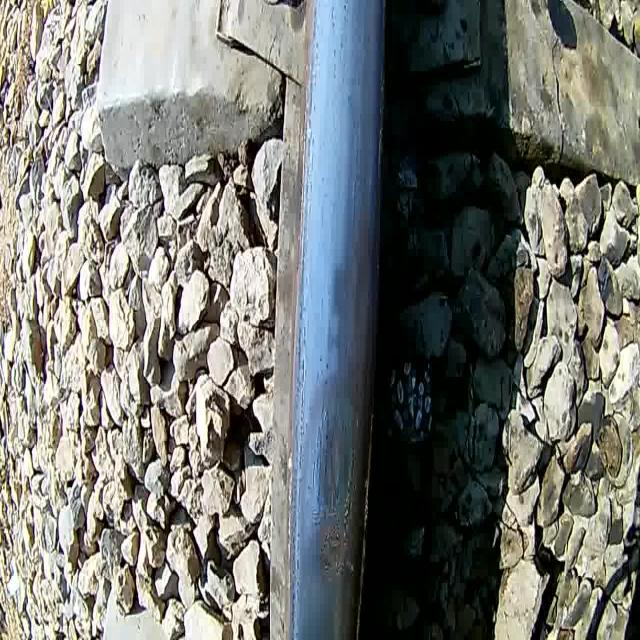Cracks: (340, 439, 359, 543)
Squats: (309, 396, 361, 591)
